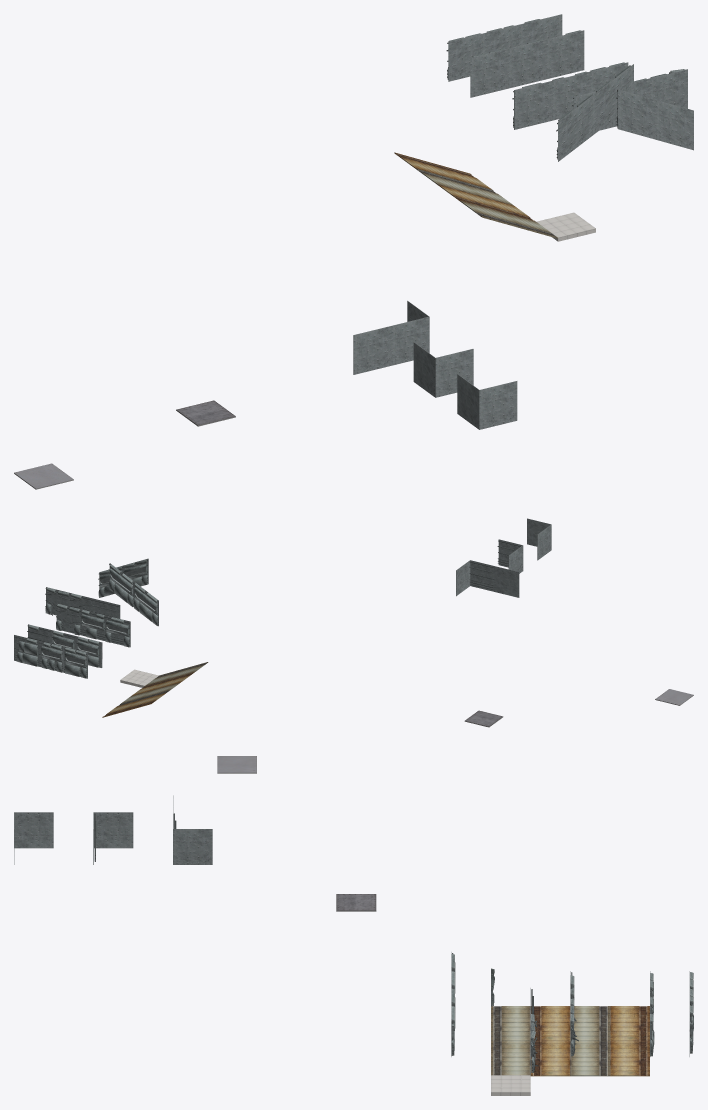
Rendered from scifi_walls.dae.
The picture shows the model from 3 angles, top to bottom: view 1: azimuth 30°, elevation 25°; view 2: azimuth 150°, elevation 25°; view 3: azimuth 270°, elevation 25°; orthographic projection. The views are drawn at different scales.
Visible parts, largest first — view 1: wall.100, wall.089, wall.088, wall.101, wall.036, wall.039, wall.041, wall.040, wall.029, wall.028, wall.030, wall.042 (+8 smaller); view 2: wall.088, wall.100, wall.089, wall.031, wall.101, wall.043, wall.038, wall.028, wall.036, wall.037, wall.044, wall.042 (+11 smaller); view 3: wall.089, wall.100, wall.088, floor.057, floor.055, floor.051, floor.052, floor.058, floor.053, floor.056, floor.054, floor.001 (+2 smaller).
Boxes of the visible parts, x1,y1,x2,y2 form: wall.100: [457, 374, 517, 429]; wall.089: [413, 342, 473, 397]; wall.088: [391, 300, 429, 365]; wall.101: [556, 93, 595, 161]; wall.036: [512, 81, 552, 129]; wall.039: [470, 49, 508, 97]; wall.041: [546, 30, 584, 79]; wall.040: [508, 39, 546, 88]; wall.029: [616, 89, 655, 139]; wall.028: [353, 326, 391, 374]; wall.030: [656, 100, 693, 150]; wall.042: [446, 33, 486, 81]; wall.088: [456, 560, 494, 596]; wall.100: [527, 518, 551, 560]; wall.089: [497, 539, 523, 573]; wall.031: [108, 563, 134, 606]; wall.101: [133, 582, 158, 626]; wall.043: [38, 641, 63, 672]; wall.038: [55, 603, 81, 635]; wall.028: [494, 566, 519, 597]; wall.036: [105, 615, 130, 647]; wall.037: [80, 609, 105, 641]; wall.044: [14, 635, 38, 666]; wall.042: [63, 647, 87, 678]; wall.089: [93, 812, 133, 864]; wall.100: [14, 812, 53, 864]; wall.088: [173, 812, 212, 864]; floor.057: [610, 1040, 649, 1076]; floor.055: [570, 1040, 610, 1076]; floor.051: [491, 1040, 530, 1075]; floor.052: [491, 1006, 530, 1041]; floor.058: [610, 1006, 649, 1041]; floor.053: [530, 1040, 570, 1076]; floor.056: [570, 1006, 610, 1041]; floor.054: [531, 1006, 570, 1041]; floor.001: [491, 1075, 530, 1095].
Size of what is drawn, in the model's own units: 86.88 by 68.44 by 17.41.
